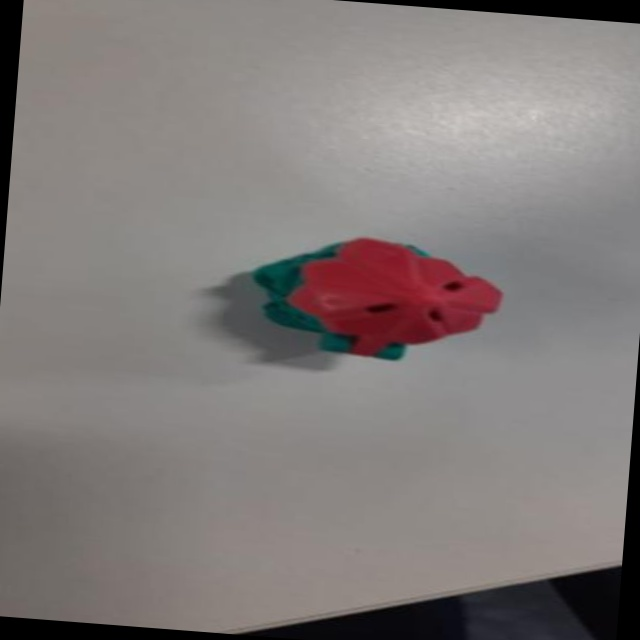House: (231, 227, 511, 371)
